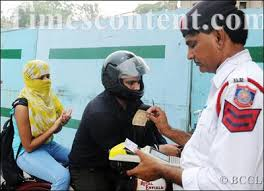helmet: (99, 47, 149, 97)
